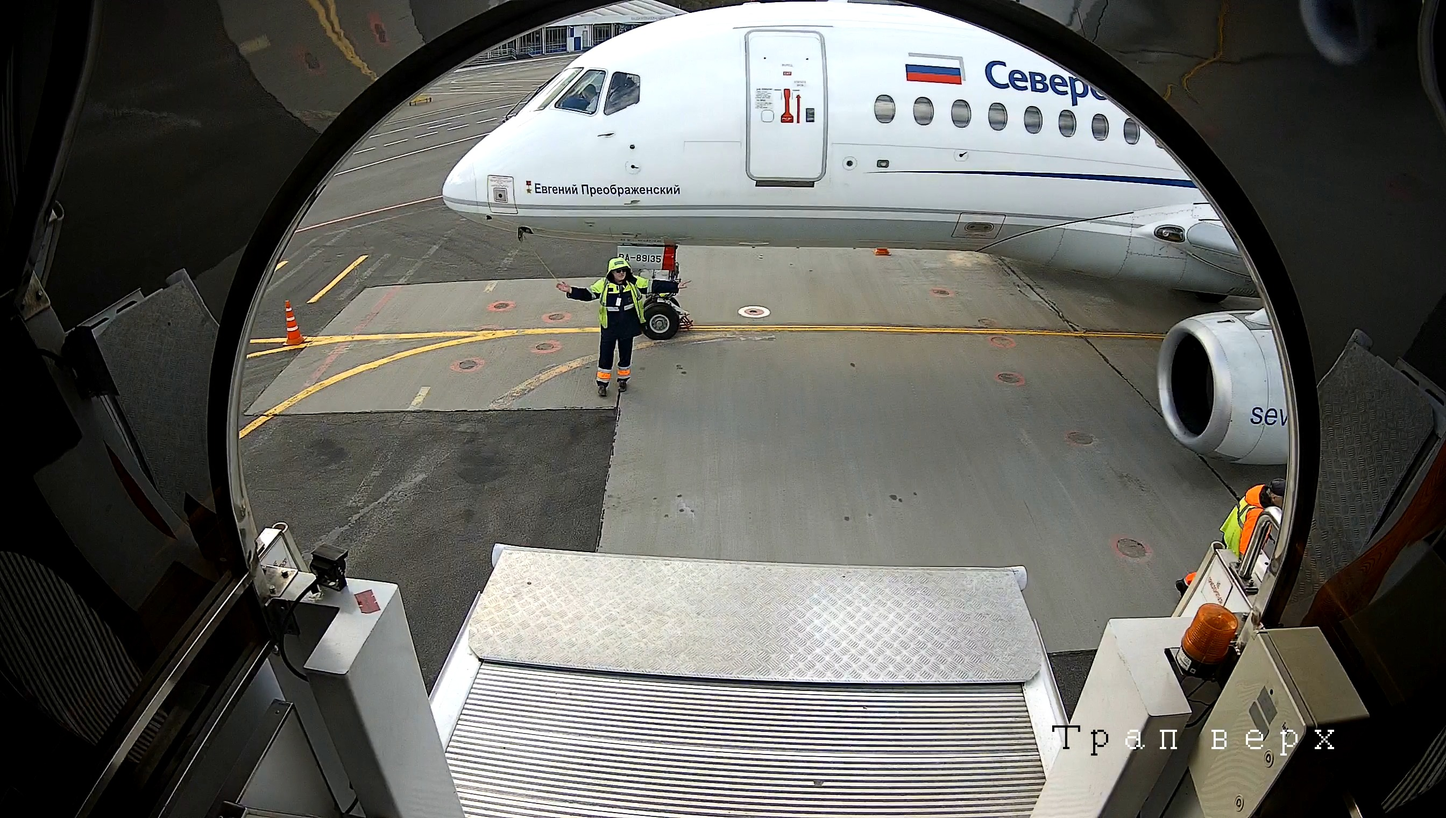boots: (675, 307, 702, 336)
wheels: (643, 303, 681, 340)
